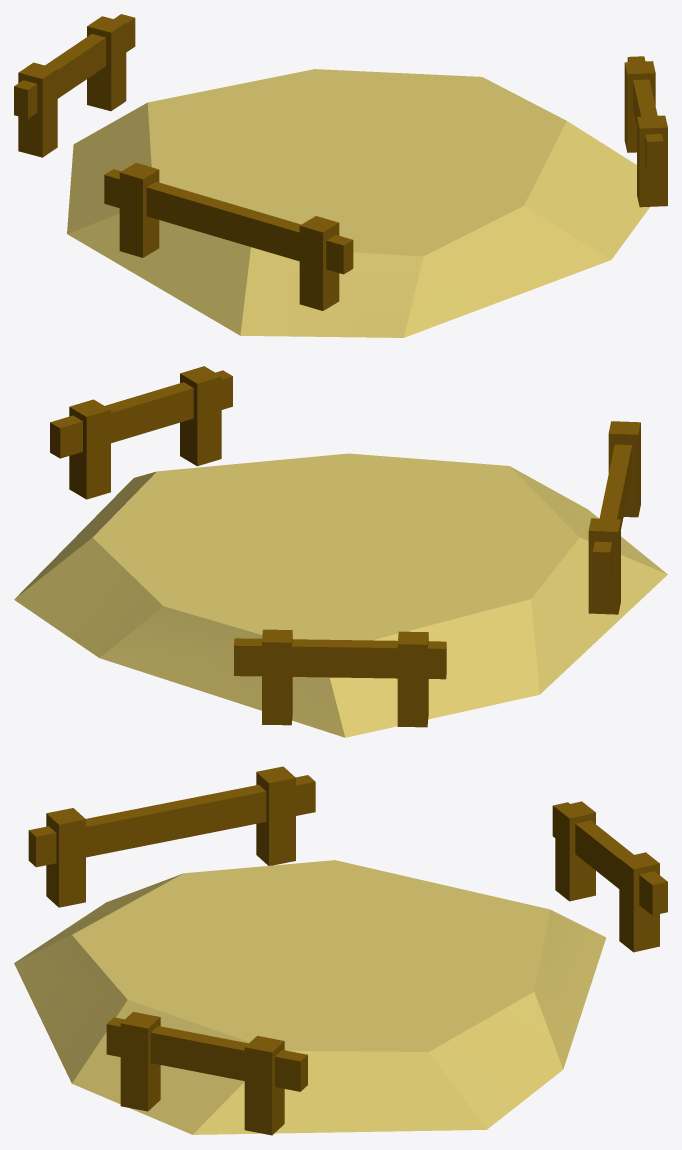
The model's file is Single.fbx.
3 renders of one model, top to bottom at view 1: azimuth 30°, elevation 25°; view 2: azimuth 150°, elevation 25°; view 3: azimuth 270°, elevation 25°, orthographic. The views are drawn at different scales.
Parts seen in each view (by area): view 1: polySurface8.003; view 2: polySurface8.003; view 3: polySurface8.003.
Boxes of the visible parts, left/top/right/bottom form: polySurface8.003: left=14, top=14, right=667, bottom=337; polySurface8.003: left=14, top=366, right=667, bottom=737; polySurface8.003: left=14, top=766, right=667, bottom=1135.
Bounding box in the file's own units: 113 × 22.33 × 113.
